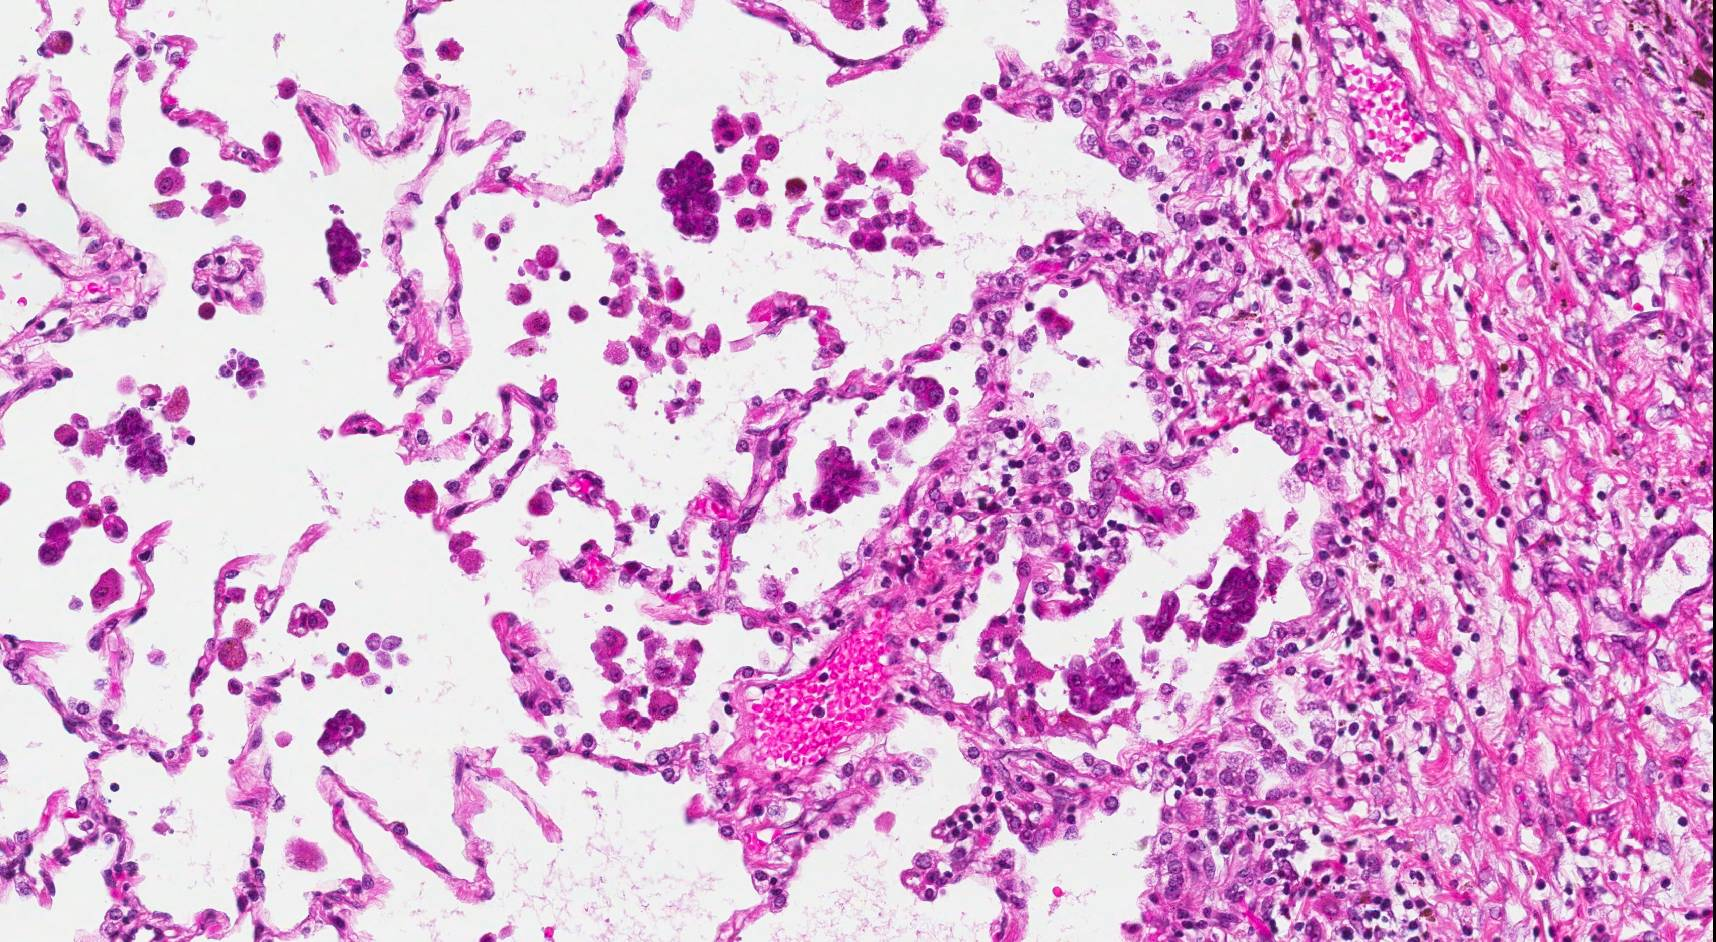stas: (650, 145, 729, 248), (1182, 562, 1264, 649), (1062, 641, 1139, 720), (805, 441, 873, 517), (111, 404, 175, 481), (886, 371, 947, 447), (316, 213, 374, 283), (314, 704, 373, 759), (1132, 587, 1185, 646), (216, 347, 269, 396)
